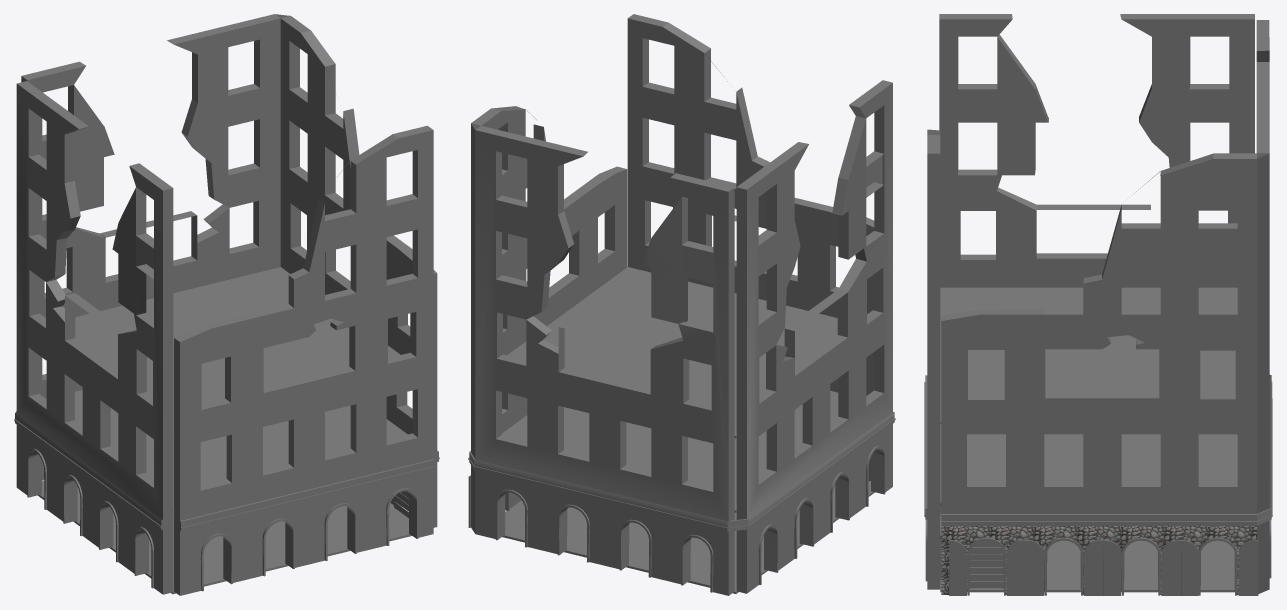
Rendered from Building.dae.
3 views of the same model, side by side, from view 1: azimuth 30°, elevation 25°; view 2: azimuth 150°, elevation 25°; view 3: azimuth 270°, elevation 25° (orthographic). The views are drawn at different scales.
Visible parts, largest first — view 1: Corner_Piece; view 2: Corner_Piece; view 3: Corner_Piece.
Part boxes in pixels (x1,y1,x2,y2): Corner_Piece: [14, 14, 439, 595]; Corner_Piece: [468, 14, 895, 595]; Corner_Piece: [924, 14, 1272, 595].
Bounding box in the file's own units: 27.09 × 37.59 × 27.04.
